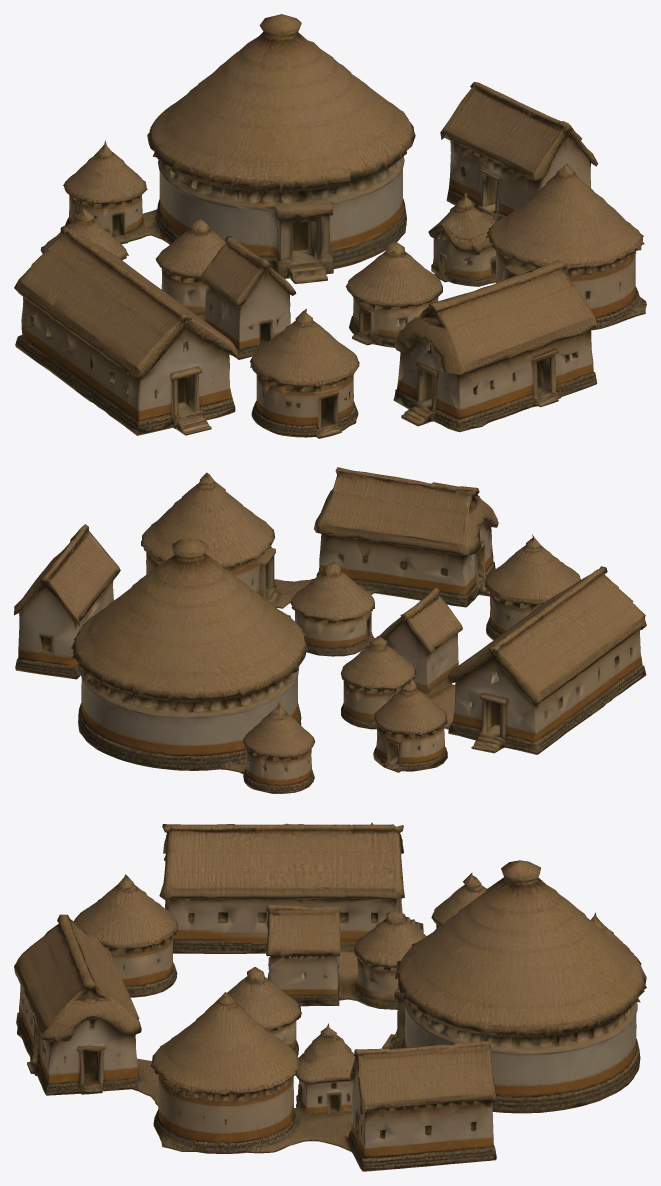
Rendered from Classical Village (East African).fbx.
3 renders of one model, top to bottom at view 1: azimuth 30°, elevation 25°; view 2: azimuth 150°, elevation 25°; view 3: azimuth 270°, elevation 25°, orthographic. The views are drawn at different scales.
Visible parts, largest first — view 1: tripo_node_ea538a3c; view 2: tripo_node_ea538a3c; view 3: tripo_node_ea538a3c.
Boxes of the visible parts, x1=… form: tripo_node_ea538a3c: x1=14, y1=14, x2=646, y2=438; tripo_node_ea538a3c: x1=14, y1=467, x2=646, y2=793; tripo_node_ea538a3c: x1=14, y1=822, x2=646, y2=1171.
Size of the model in its own units: 1 by 0.3513 by 0.9995.
